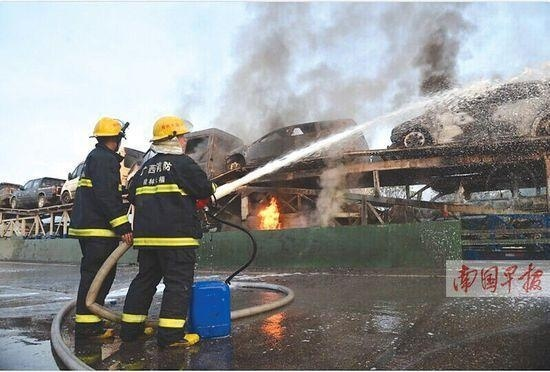fire: (257, 195, 280, 230)
